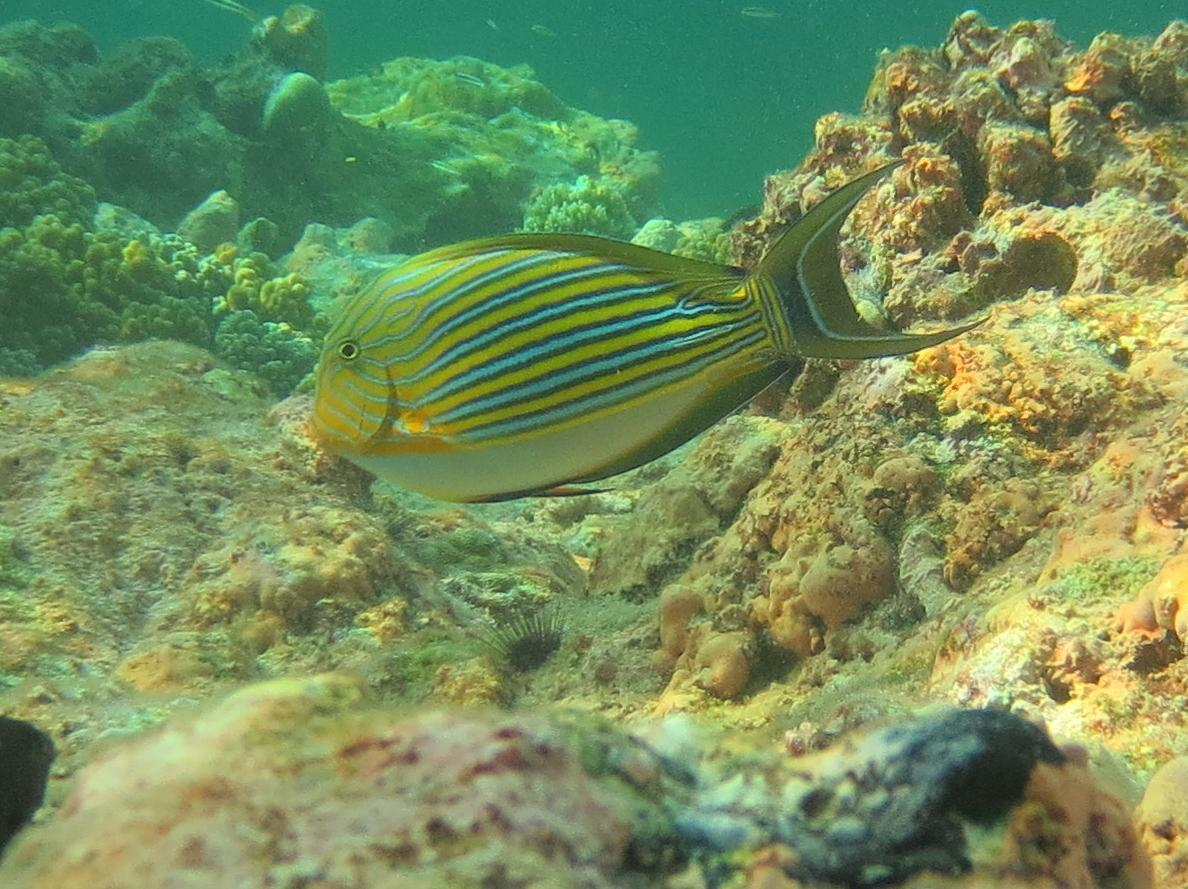Acanthurus lineatus: (221, 184, 1050, 513)
